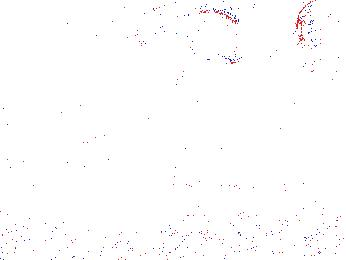moon jellyfish: (268, 24, 346, 105), (139, 10, 193, 100), (134, 2, 208, 57), (234, 4, 291, 65), (297, 1, 346, 62)
